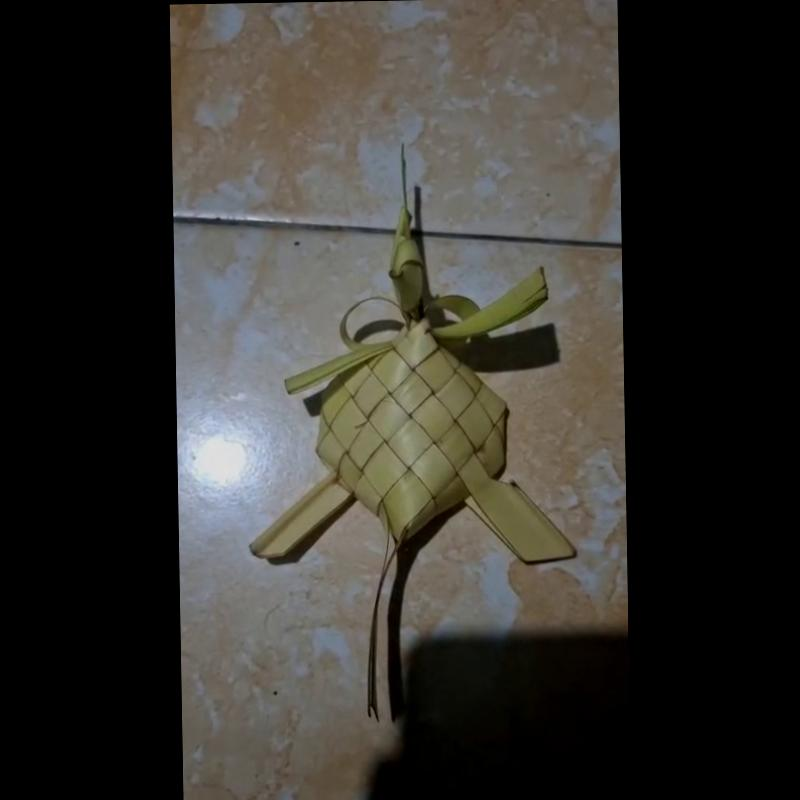Tipat Dampulan: (244, 137, 577, 727)
